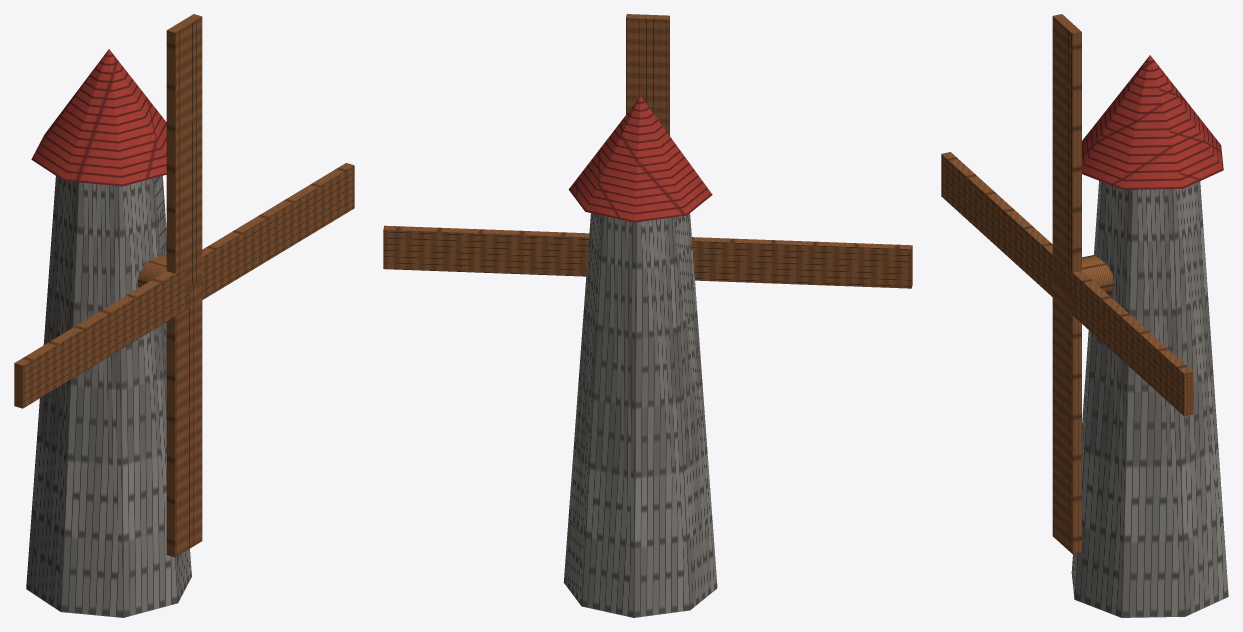
File: windmill.gltf
3 views of the same model, side by side, from view 1: azimuth 30°, elevation 25°; view 2: azimuth 150°, elevation 25°; view 3: azimuth 270°, elevation 25° (orthographic). The views are drawn at different scales.
Parts seen in each view (by area): view 1: tower, roof, blade_0, blade_180, blade_90, blade_270, hub; view 2: tower, roof, blade_90, blade_270, blade_0; view 3: tower, roof, blade_0, blade_180, blade_270, blade_90, hub.
Part boxes in pixels (left/top/right/bottom): tower: left=26, top=176, right=191, bottom=617; roof: left=31, top=49, right=166, bottom=186; blade_0: left=166, top=14, right=202, bottom=290; blade_180: left=166, top=279, right=202, bottom=557; blade_90: left=14, top=267, right=188, bottom=408; blade_270: left=188, top=163, right=354, bottom=307; hub: left=137, top=254, right=166, bottom=287; tower: left=563, top=213, right=717, bottom=617; roof: left=568, top=96, right=712, bottom=222; blade_90: left=692, top=237, right=912, bottom=288; blade_270: left=383, top=225, right=589, bottom=276; blade_0: left=626, top=14, right=669, bottom=135; tower: left=1071, top=181, right=1228, bottom=617; roof: left=1082, top=55, right=1223, bottom=189; blade_0: left=1052, top=14, right=1081, bottom=293; blade_180: left=1052, top=276, right=1081, bottom=554; blade_270: left=1062, top=264, right=1193, bottom=416; blade_90: left=941, top=152, right=1062, bottom=296; hub: left=1082, top=254, right=1114, bottom=295.
Size of the model in its own units: 1.01 by 1.22 by 0.5505.
Materials: 3 (3 with a texture image).
